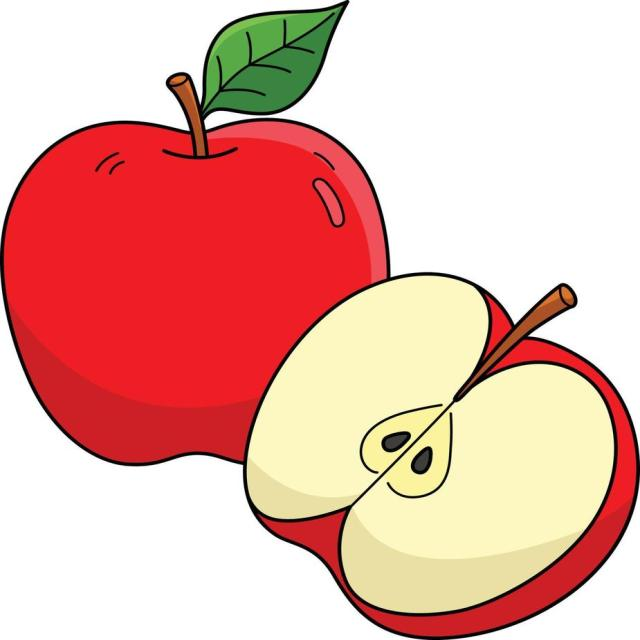manzana: (4, 4, 432, 483), (240, 259, 640, 640)
